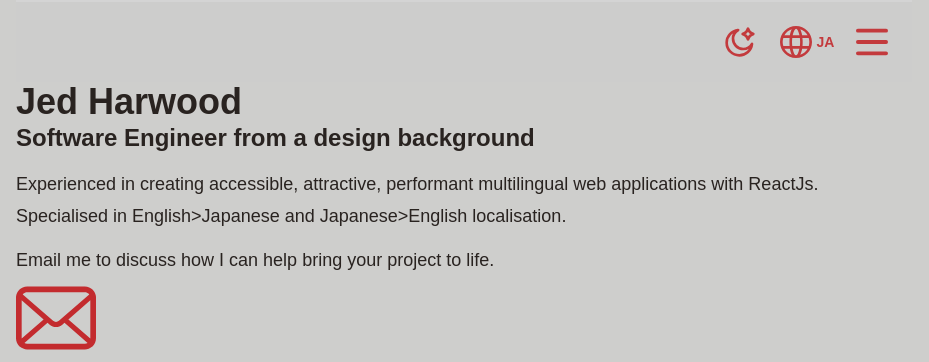
Scenario: Navigation › should navigate to Contact Page
Expected: the heading "Jed Harwood" is shown, [16,80,242,122]
Click the button named "Open main menu". click: coordinates (872, 42)
box: [848,18,896,66]
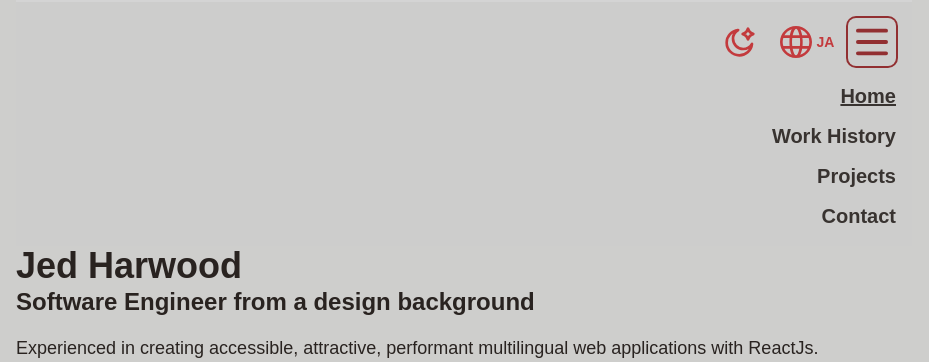
Click the link "Contact". click: coordinates (860, 216)
box: [822,202,897,230]
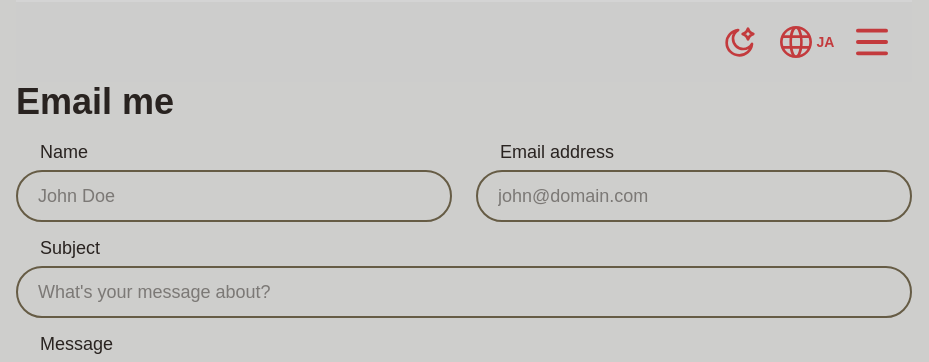
Expected: the heading "Email me" is shown, [16,80,174,122]
